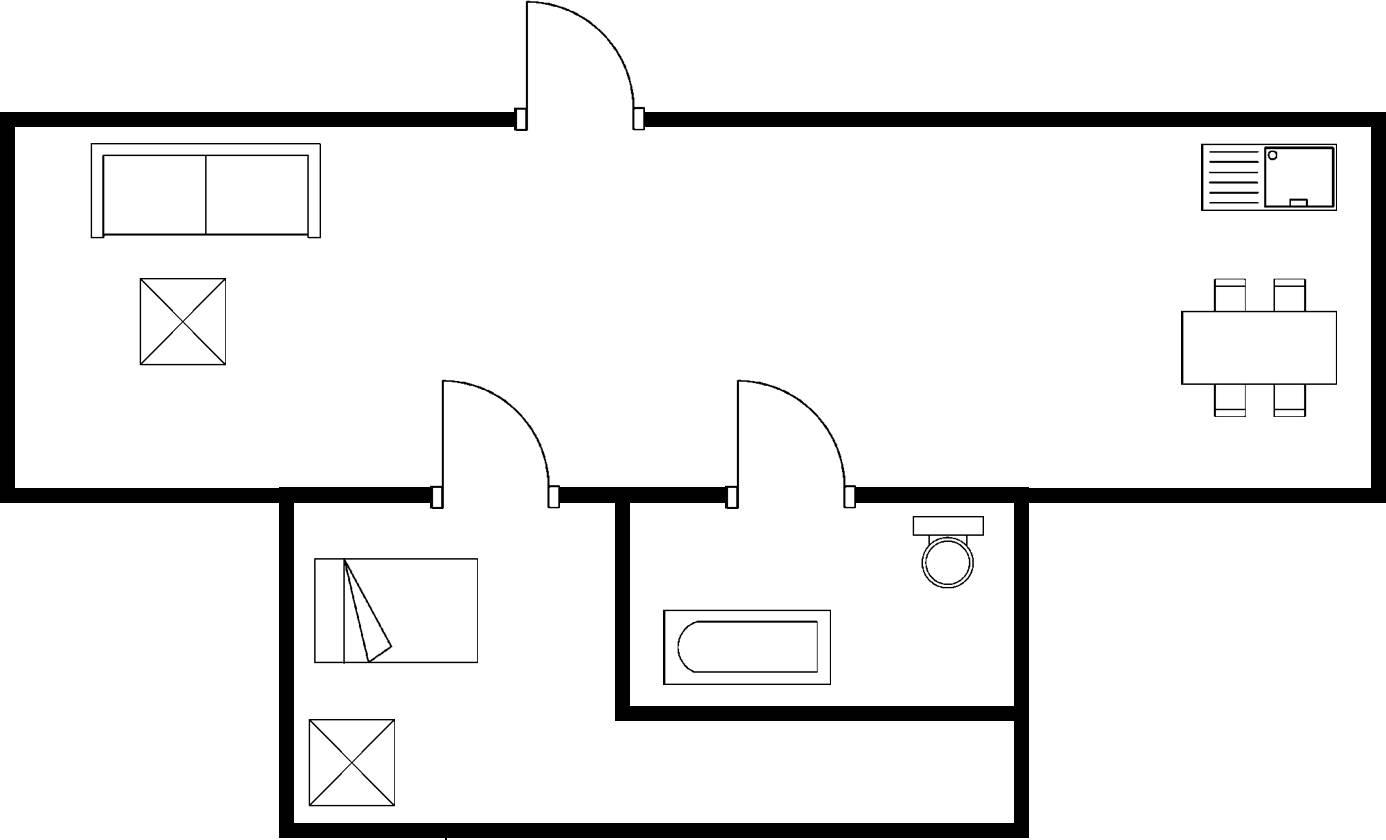bed: (307, 551, 482, 671)
dining_table: (1172, 272, 1344, 422)
sink: (1195, 138, 1341, 214)
sofa: (81, 136, 330, 248)
toilet: (907, 510, 986, 590)
tub: (657, 603, 834, 689)
